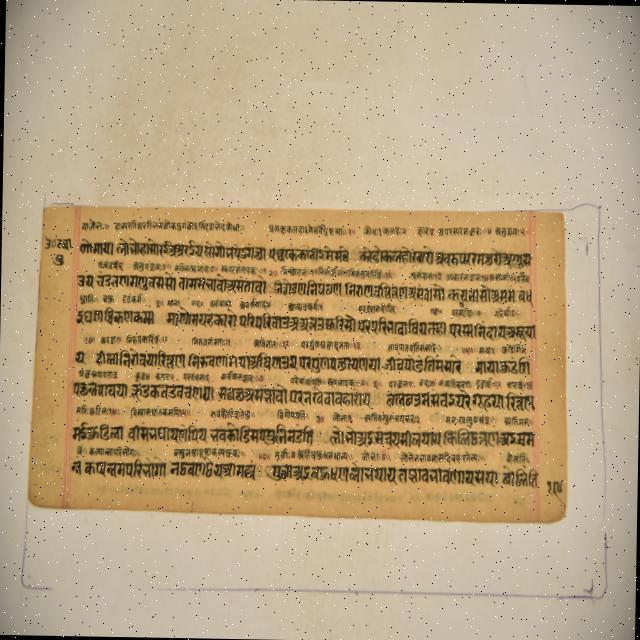text_paragraph: (27, 205, 565, 522)
